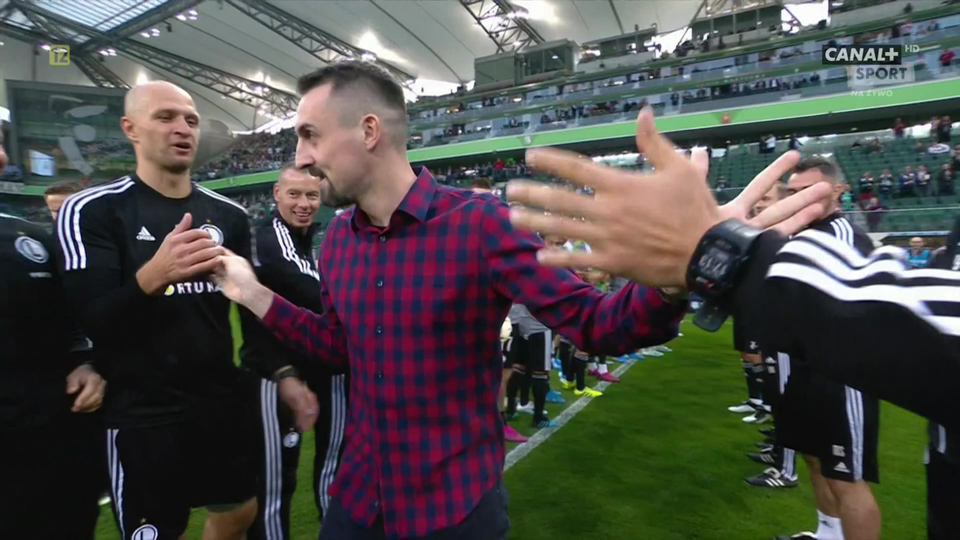Adidas: (134, 224, 157, 241)
